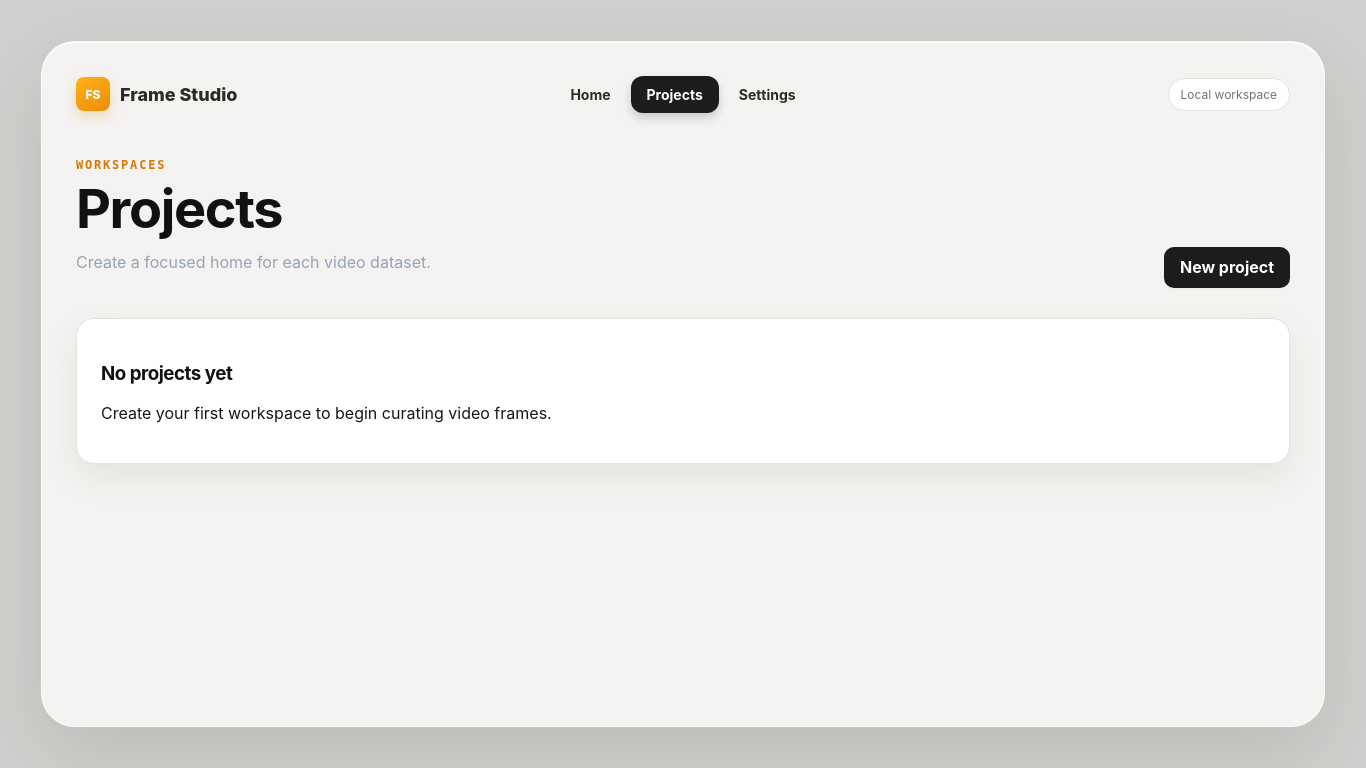
Test case: shows a clear duplicate-name error
The image size is (1366, 768).
Click the button "New project".
click(1227, 267)  # box [1164,247,1290,288]
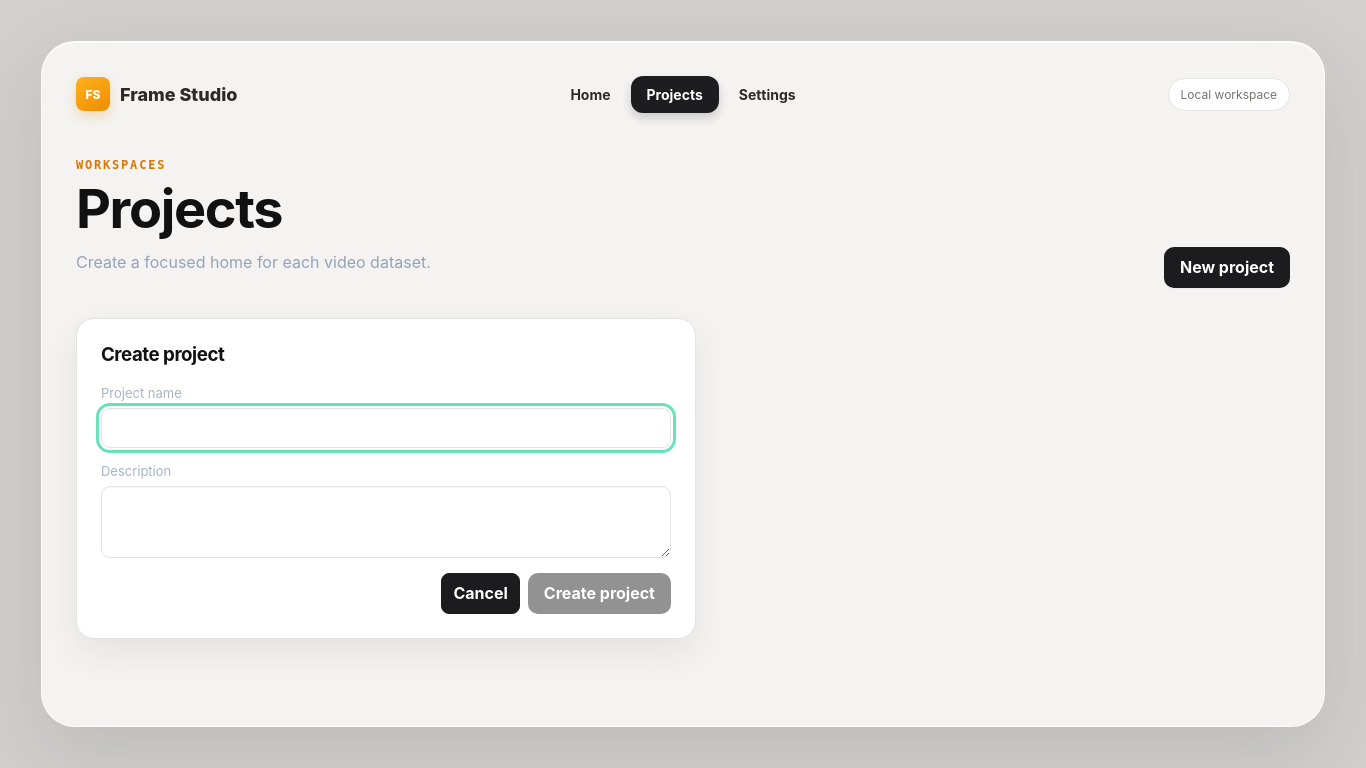
Type "Duplicate" into the field labelled "Project name".
click(386, 428); type("Duplicate")  # box [101,408,671,448]
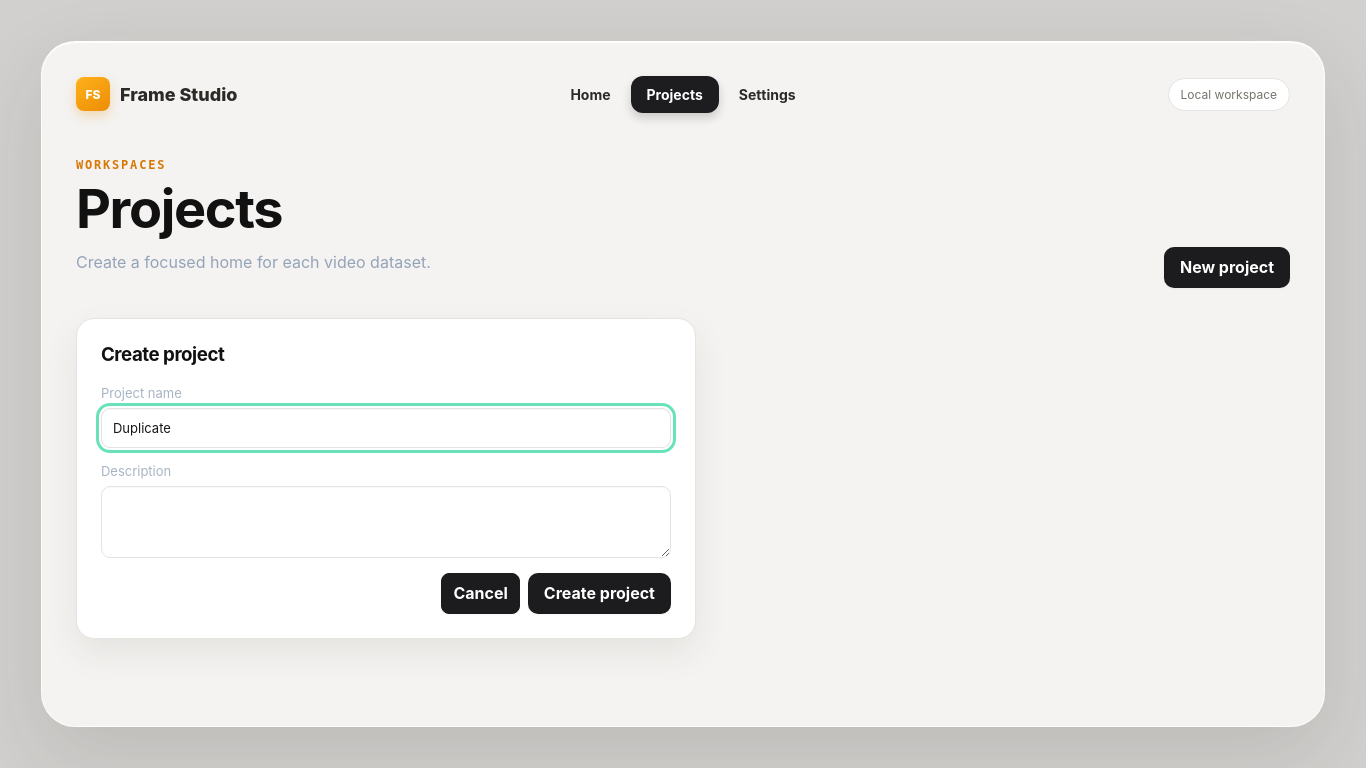
Click the button "Create project".
click(599, 593)  # box [528,573,671,614]
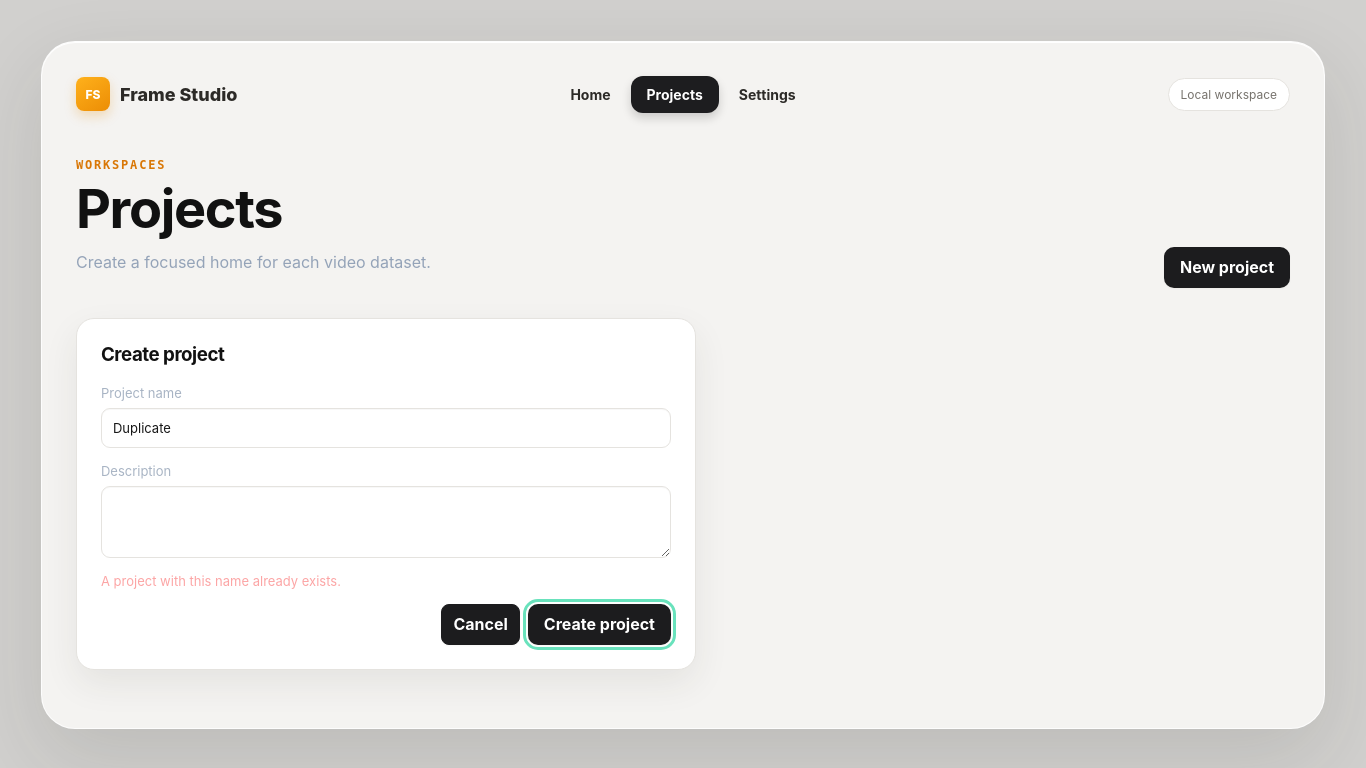
expect the message reads "A project with this name already exists.": met, box [101,573,341,589]
